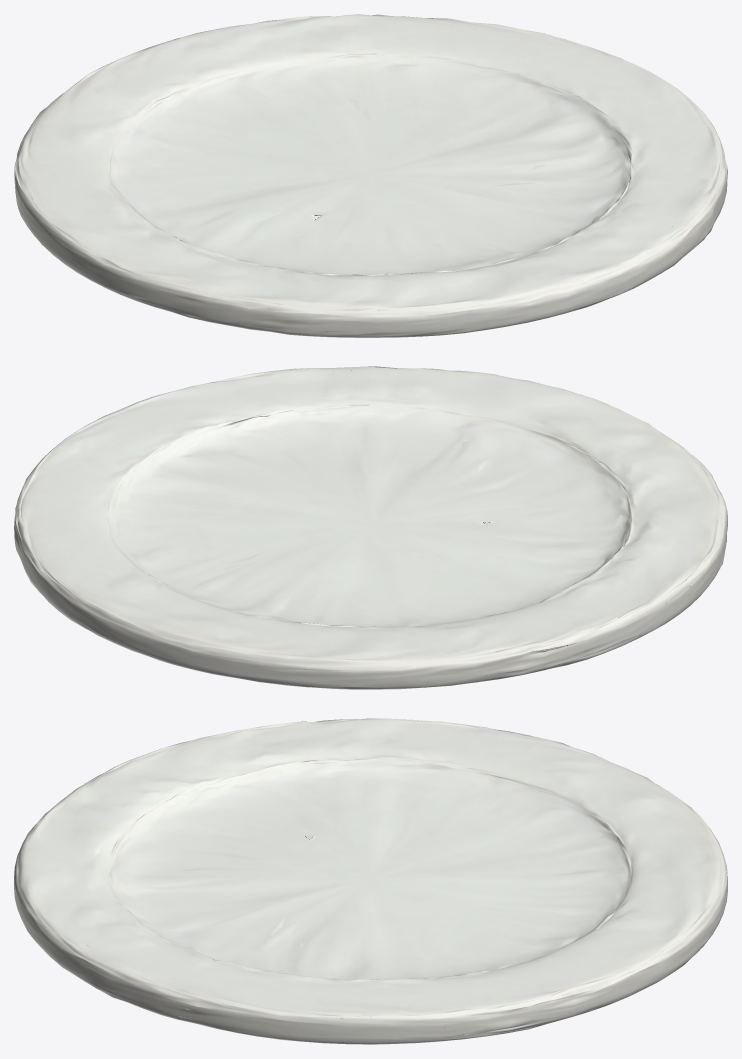
Rendered from desktop.glb.
The picture shows the model from 3 angles, top to bottom: view 1: azimuth 30°, elevation 25°; view 2: azimuth 150°, elevation 25°; view 3: azimuth 270°, elevation 25°; orthographic projection.
Parts seen in each view (by area): view 1: plate; view 2: plate; view 3: plate.
Boxes of the visible parts, bbox=[...] form: plate: bbox=[14, 14, 727, 337]; plate: bbox=[14, 366, 727, 689]; plate: bbox=[14, 718, 727, 1044].
Bounding box in the file's own units: 0.2699 × 0.0125 × 0.27.
Materials: 1 (1 with a texture image).
